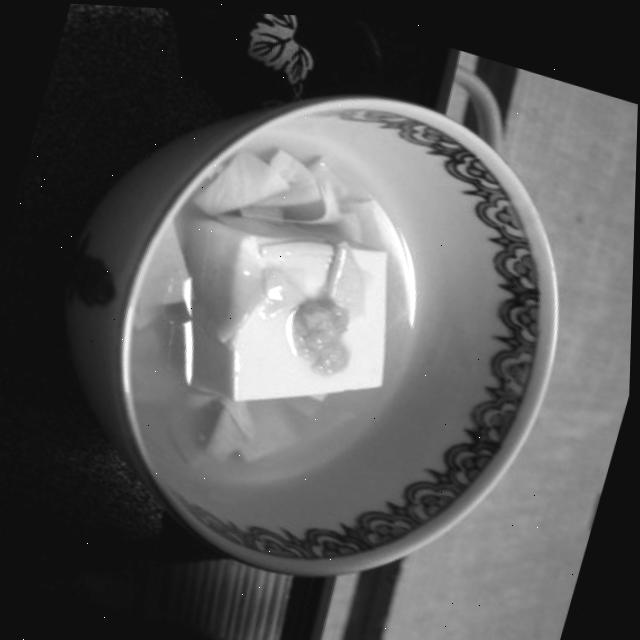豆腐料理: (86, 71, 495, 568)
